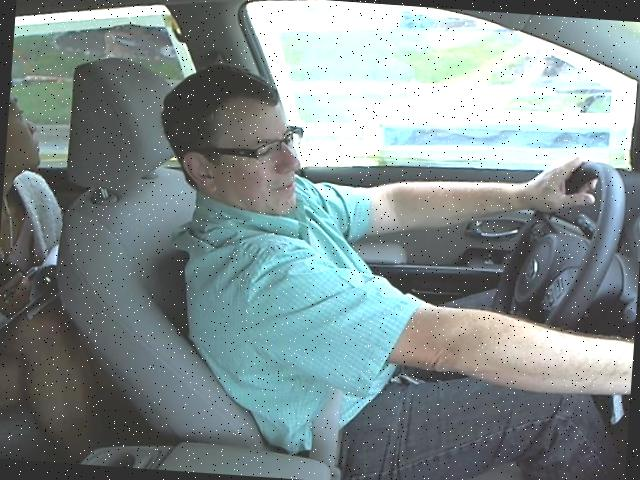c3 - Operating the Radio: (131, 54, 639, 420)
